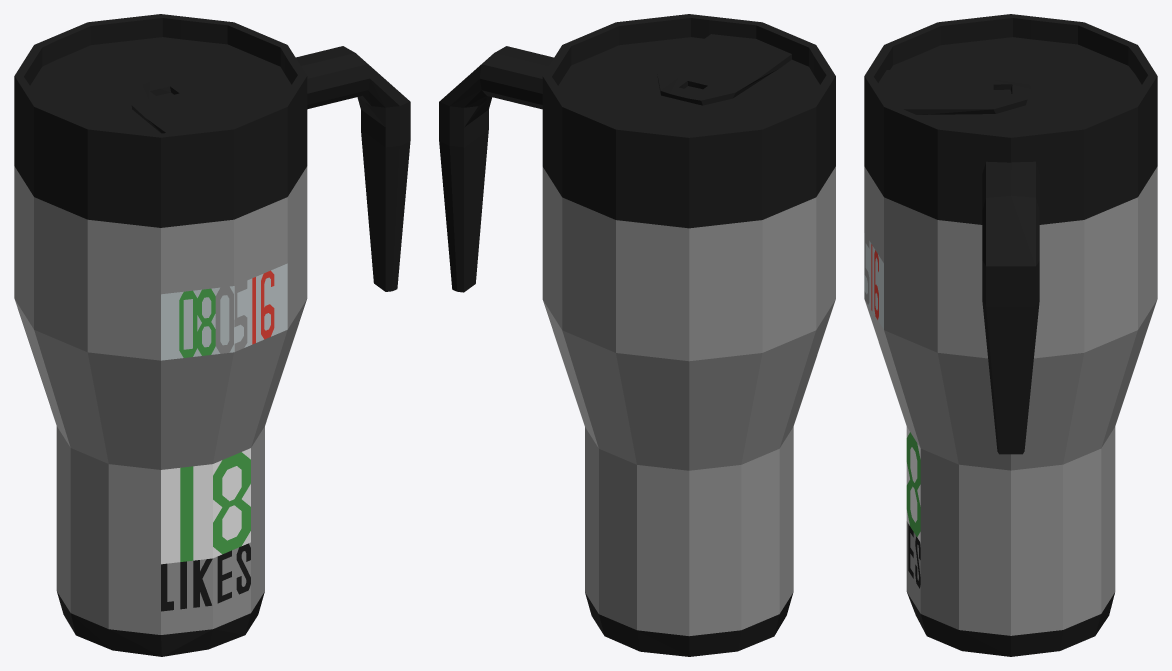
File: Coffee Mug.obj
The picture shows the model from 3 angles, left to right: view 1: azimuth 30°, elevation 25°; view 2: azimuth 150°, elevation 25°; view 3: azimuth 270°, elevation 25°; orthographic projection.
Parts seen in each view (by area): view 1: group594608308, group298708065, group2145393373, group799127332, group1829705416, group1991508662; view 2: group594608308, group298708065, group2145393373, group799127332, group1829705416, group1991508662; view 3: group594608308, group298708065, group2145393373, group799127332, group1829705416, group1991508662.
Boxes of the visible parts, <box> form: group594608308: <box>14,166,307,469</box>; group298708065: <box>14,14,307,227</box>; group2145393373: <box>56,426,264,656</box>; group799127332: <box>357,61,410,291</box>; group1829705416: <box>131,78,251,133</box>; group1991508662: <box>295,46,369,109</box>; group594608308: <box>542,166,835,470</box>; group298708065: <box>542,14,835,228</box>; group2145393373: <box>585,427,793,656</box>; group799127332: <box>439,57,491,292</box>; group1829705416: <box>657,34,791,105</box>; group1991508662: <box>479,46,553,109</box>; group594608308: <box>864,166,1157,470</box>; group298708065: <box>864,14,1157,224</box>; group2145393373: <box>906,427,1115,656</box>; group799127332: <box>982,195,1039,454</box>; group1829705416: <box>878,70,1030,114</box>; group1991508662: <box>982,161,1039,209</box>.
Size of the model in its own units: 1.39 by 1.97 by 0.97.
